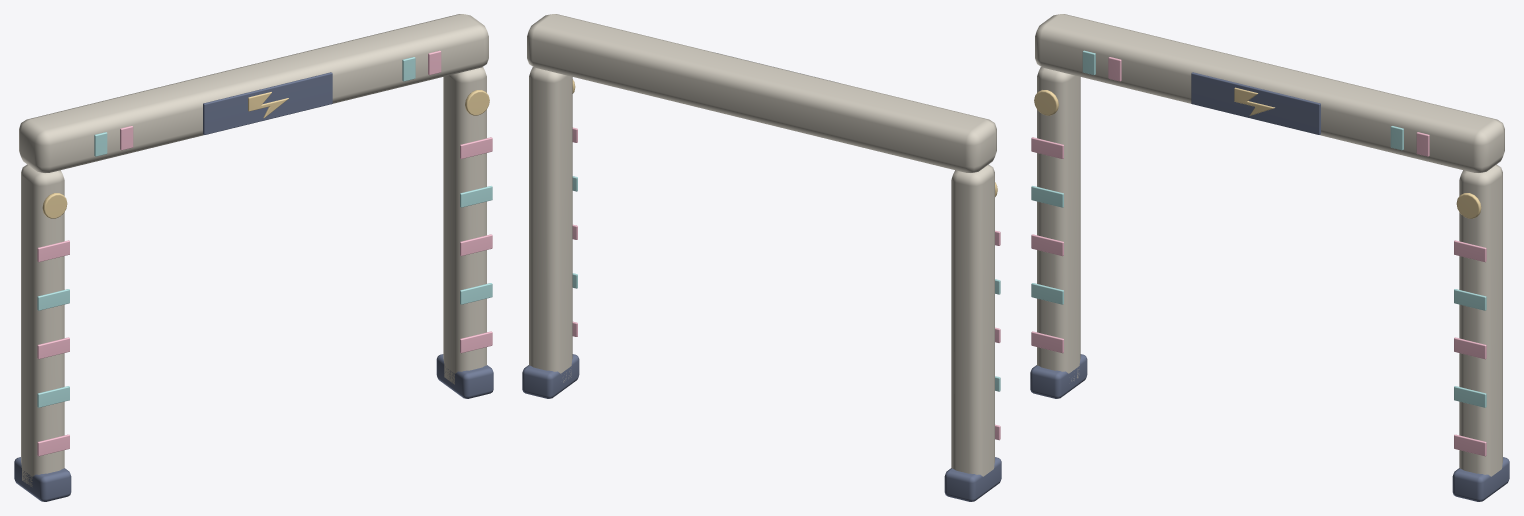
The model's file is ShortcutGate.fbx.
3 views of the same model, side by side, from view 1: azimuth 30°, elevation 25°; view 2: azimuth 150°, elevation 25°; view 3: azimuth 330°, elevation 25° (orthographic).
Visible parts, largest first — view 1: GateBeam, GatePostL, GatePostR, GateBeamFront, GateFootL, GateFootR; view 2: GateBeam, GatePostL, GatePostR, GateFootR, GateFootL; view 3: GateBeam, GatePostR, GatePostL, GateBeamFront, GateFootL, GateFootR.
Boxes of the visible parts, bbox=[...] form: GateBeam: bbox=[19, 14, 488, 173]; GatePostL: bbox=[21, 164, 64, 487]; GatePostR: bbox=[443, 67, 486, 384]; GateBeamFront: bbox=[203, 72, 332, 134]; GateFootL: bbox=[14, 457, 71, 501]; GateFootR: bbox=[436, 354, 493, 398]; GateBeam: bbox=[527, 14, 996, 173]; GatePostL: bbox=[951, 164, 994, 476]; GatePostR: bbox=[529, 67, 572, 382]; GateFootR: bbox=[522, 354, 579, 398]; GateFootL: bbox=[944, 457, 1001, 501]; GateBeam: bbox=[1035, 14, 1504, 173]; GatePostR: bbox=[1459, 164, 1502, 476]; GatePostL: bbox=[1037, 67, 1080, 381]; GateBeamFront: bbox=[1191, 72, 1320, 134]; GateFootL: bbox=[1030, 354, 1087, 398]; GateFootR: bbox=[1452, 457, 1509, 501].
Bounding box in the file's own units: 441 × 340 × 51.5.
